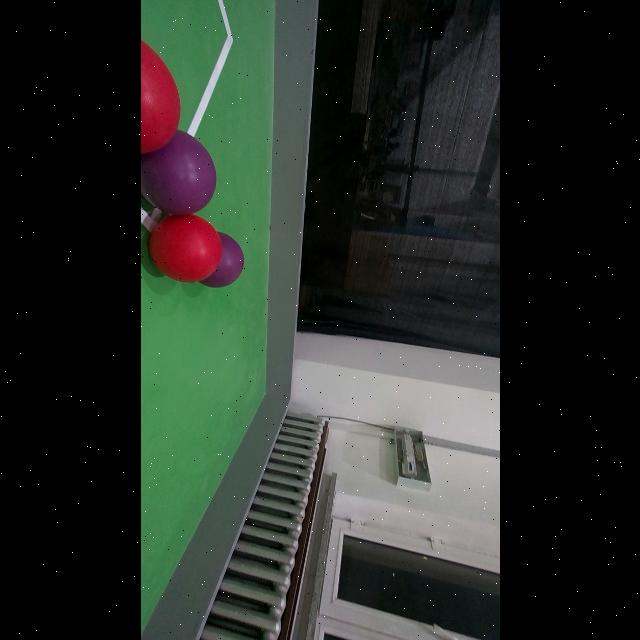P: (141, 127, 215, 219), (193, 228, 245, 292)
R: (148, 214, 222, 282), (142, 39, 182, 152), (196, 230, 200, 234)
